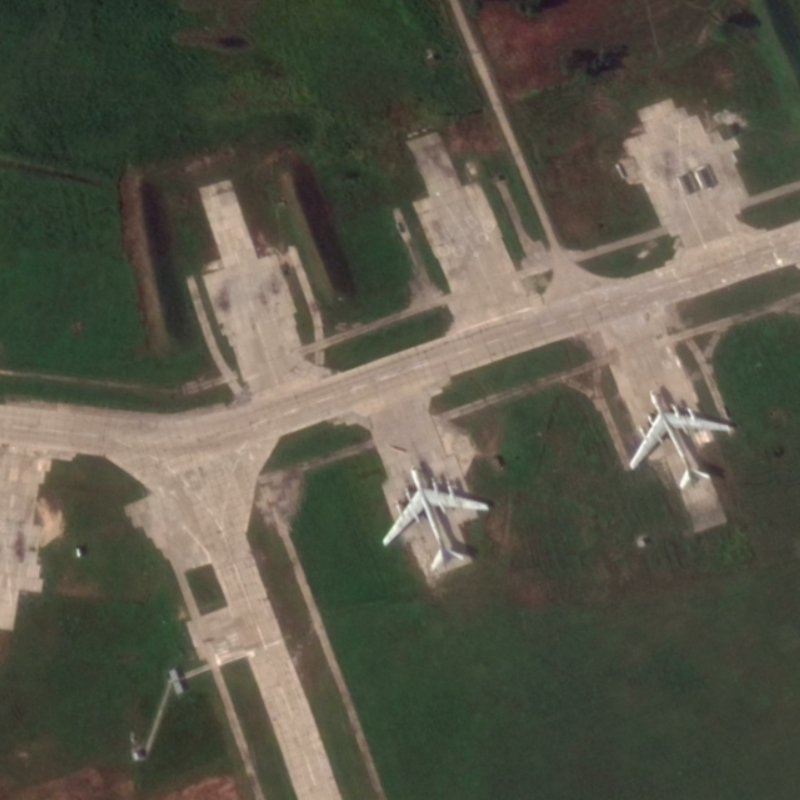A17: (379, 462, 492, 574), (626, 388, 734, 493)
